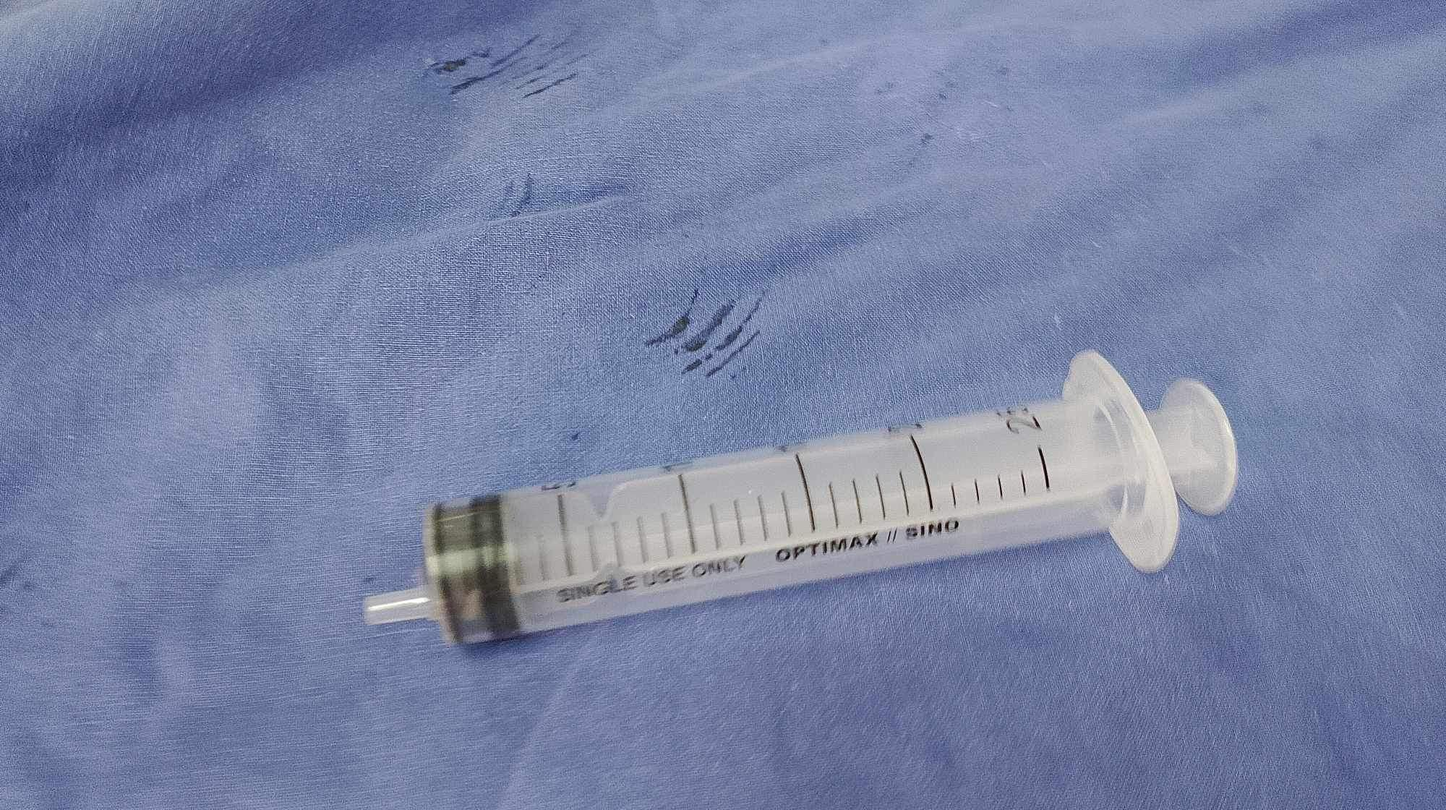Sharps: (361, 346, 1238, 649)
